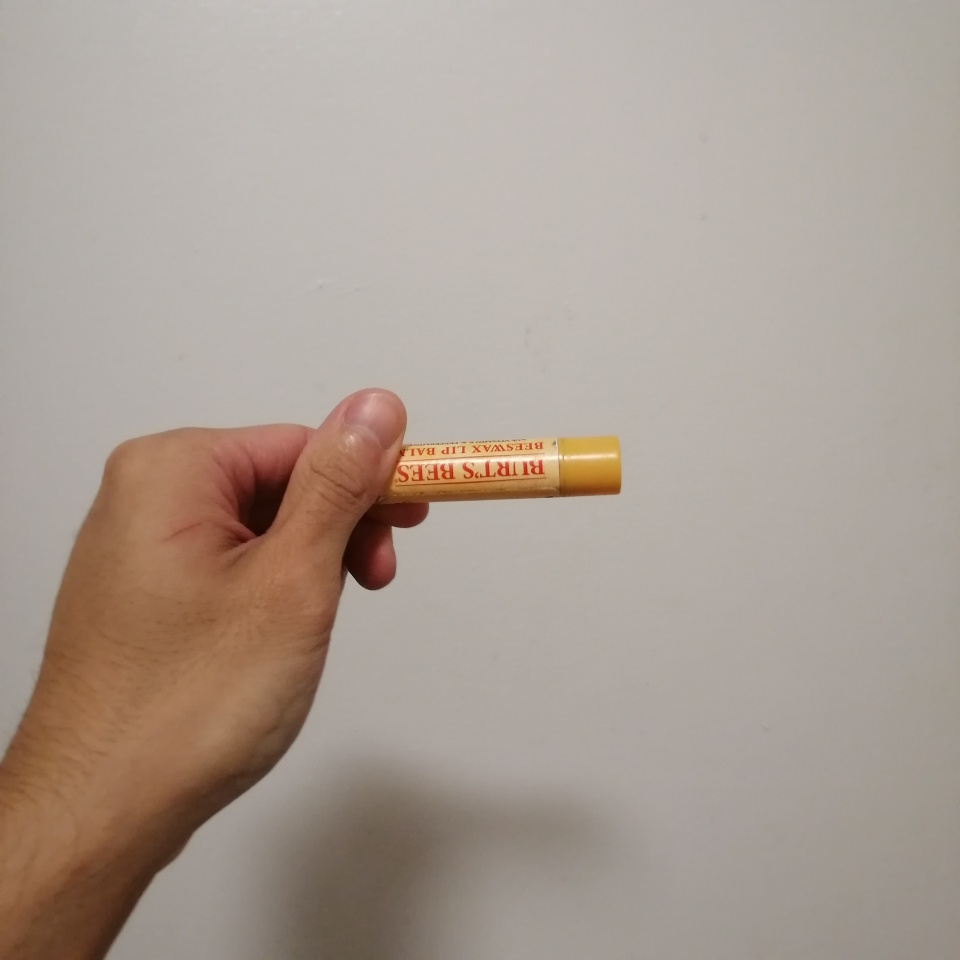chapstick: (372, 435, 623, 502)
